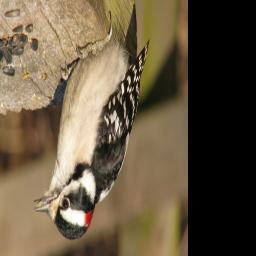Woodpecker: (31, 10, 151, 239)
